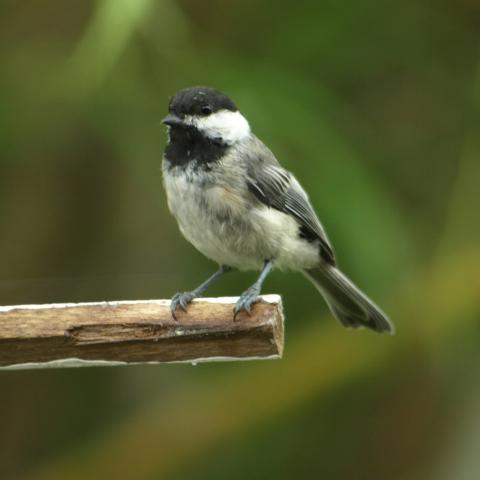bird: (156, 83, 397, 337)
